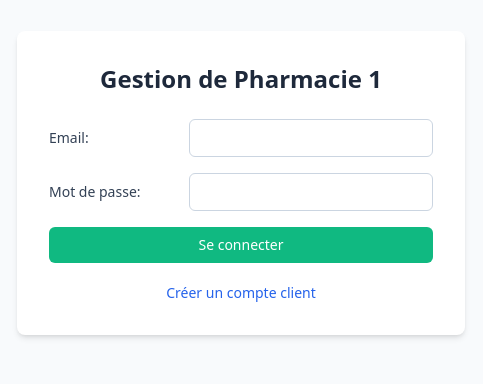
Test: LoginPage › affiche un message invitant a reessayer dans une minute en cas de 429
The image size is (483, 384).
Type "jean@test.com" into the field labelled "Email:". click: (311, 138)
box: [189, 119, 433, 157]
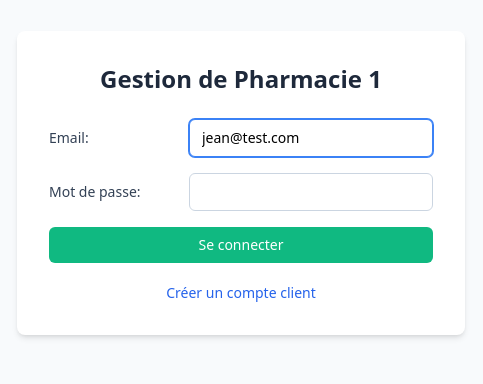
Type "wrong" into the password field labelled "Mot de passe:". click: (311, 192)
box: [189, 173, 433, 211]
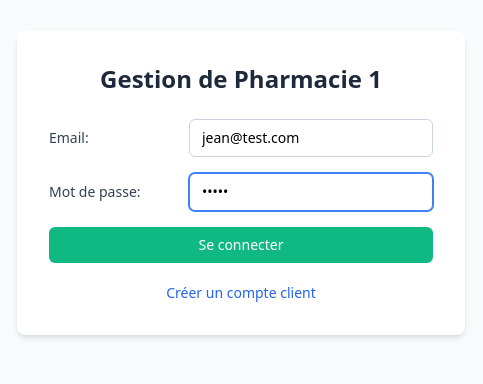
Click the button "Se connecter". click: (241, 245)
box: [49, 227, 433, 263]
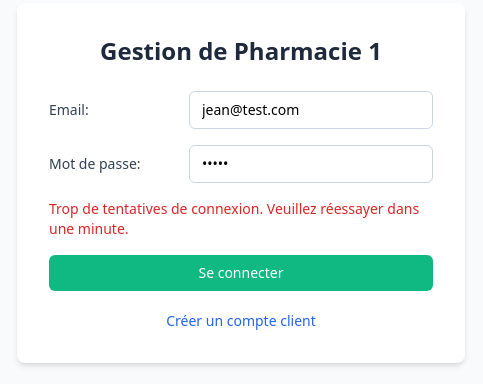
Expected: the text "Trop de tentatives de connexion. Veuillez réessayer dans une minute." is shown, [49, 199, 433, 239]
